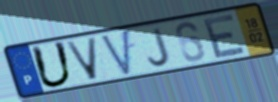6: (174, 21, 207, 64)
E: (202, 12, 248, 61)
J: (147, 26, 172, 68)
U: (29, 40, 75, 90)
V: (98, 27, 132, 78), (63, 36, 99, 82)
